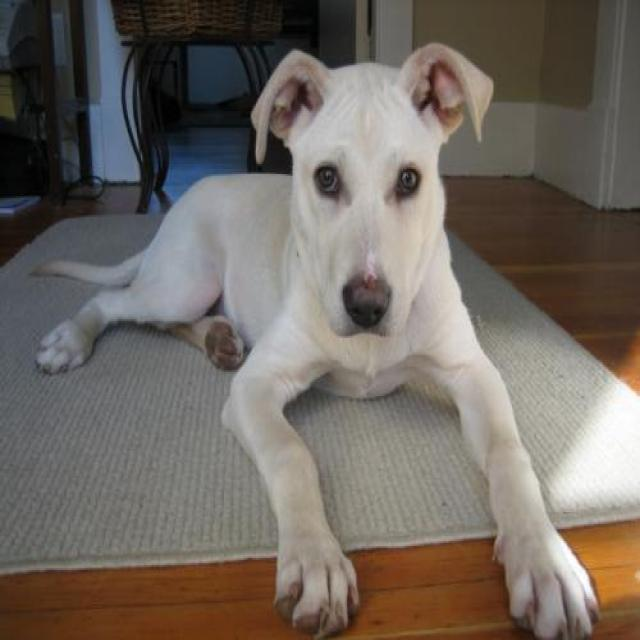dogs: (31, 41, 600, 640)
